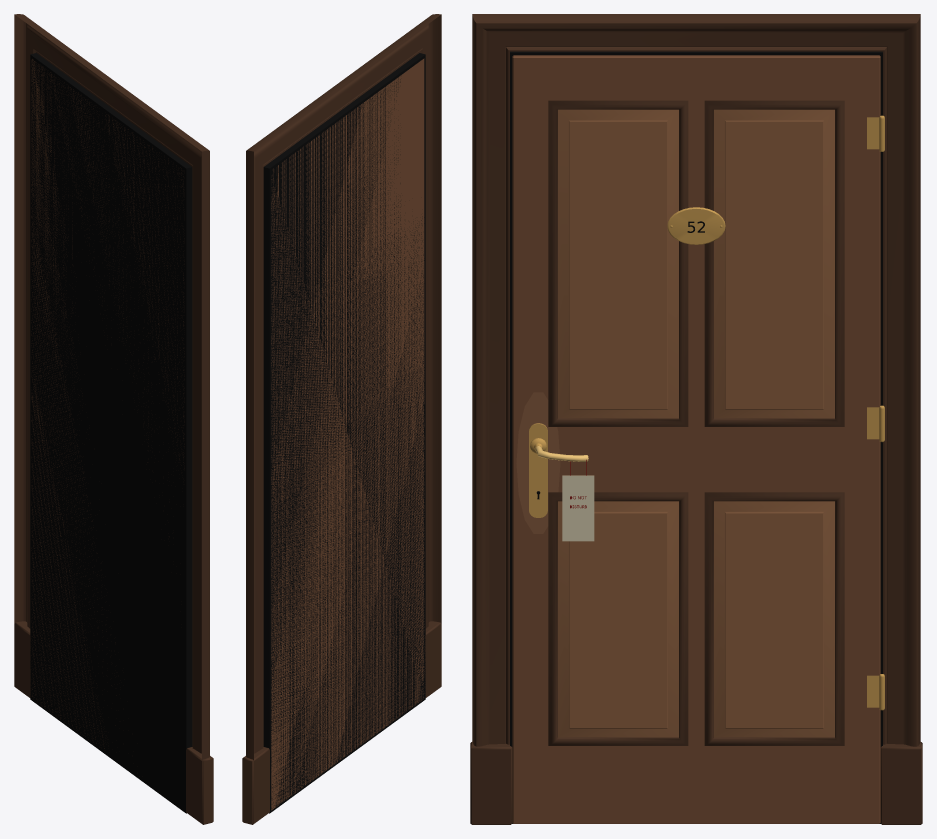
The model's file is hotel_door_a@2.glb.
The picture shows the model from 3 angles, left to right: view 1: azimuth 30°, elevation 25°; view 2: azimuth 150°, elevation 25°; view 3: azimuth 270°, elevation 25°; orthographic projection. The views are drawn at different scales.
Visible parts, largest first — view 1: fuge, bekleidung, blatt; view 2: fuge, blatt, bekleidung; view 3: fuellungen, blatt, bekleidung, kehlleisten, fuge, beschlag, abrieb, karte, nummernschild.
Part boxes in pixels (x1=…): fuge: x1=30, y1=53, x2=192, y2=813; bekleidung: x1=14, y1=14, x2=213, y2=824; blatt: x1=31, y1=59, x2=184, y2=776; fuge: x1=263, y1=53, x2=425, y2=813; blatt: x1=271, y1=58, x2=424, y2=810; bekleidung: x1=242, y1=14, x2=441, y2=824; fuellungen: x1=558, y1=109, x2=834, y2=737; blatt: x1=512, y1=55, x2=880, y2=823; bekleidung: x1=470, y1=14, x2=922, y2=824; kehlleisten: x1=548, y1=100, x2=844, y2=745; fuge: x1=510, y1=51, x2=882, y2=823; beschlag: x1=529, y1=115, x2=884, y2=710; abrieb: x1=516, y1=392, x2=560, y2=533; karte: x1=562, y1=475, x2=594, y2=541; nummernschild: x1=667, y1=207, x2=725, y2=244.
Bounding box in the file's own units: 0.1169 × 2.22 × 1.13.
